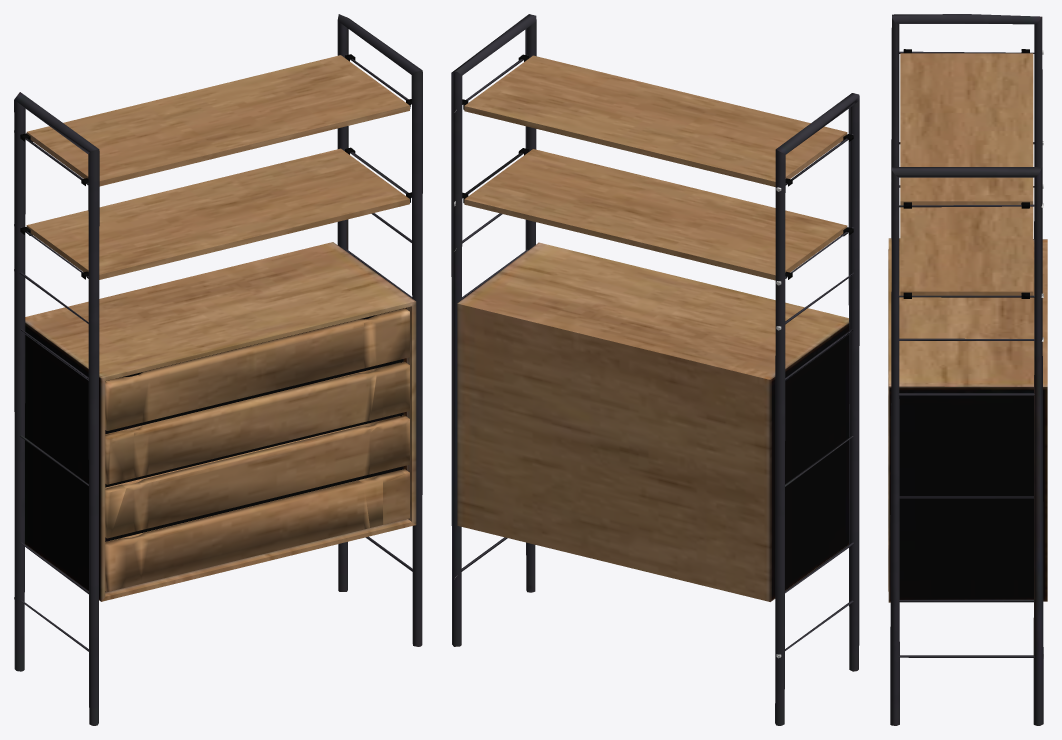
The model's file is drawer_cabinet.glb.
The picture shows the model from 3 angles, left to right: view 1: azimuth 30°, elevation 25°; view 2: azimuth 150°, elevation 25°; view 3: azimuth 270°, elevation 25°; orthographic projection. The views are drawn at different scales.
Visible parts, largest first — view 1: drawer_cabinet; view 2: drawer_cabinet; view 3: drawer_cabinet.
Boxes of the visible parts, x1,y1,x2,y2 form: drawer_cabinet: (14,14,422,725); drawer_cabinet: (451,14,859,725); drawer_cabinet: (888,14,1047,725).
Bounding box in the file's own units: 1.14 × 1.88 × 0.4881.
1 material, 1 textured.
